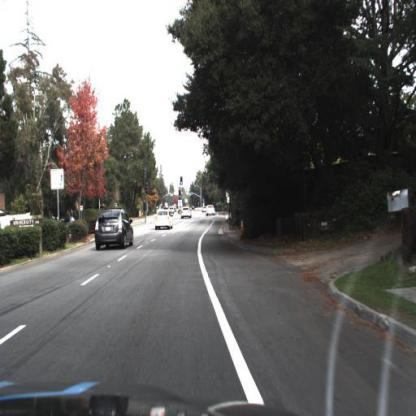car: (93, 205, 139, 259), (154, 206, 174, 233), (202, 200, 219, 223), (178, 202, 191, 223)
trafficLight-Green: (179, 174, 185, 188), (179, 177, 185, 191)
trafficLight-Red: (143, 194, 148, 212), (177, 186, 183, 199)
trafficLight-RedLeft: (143, 197, 150, 215)
